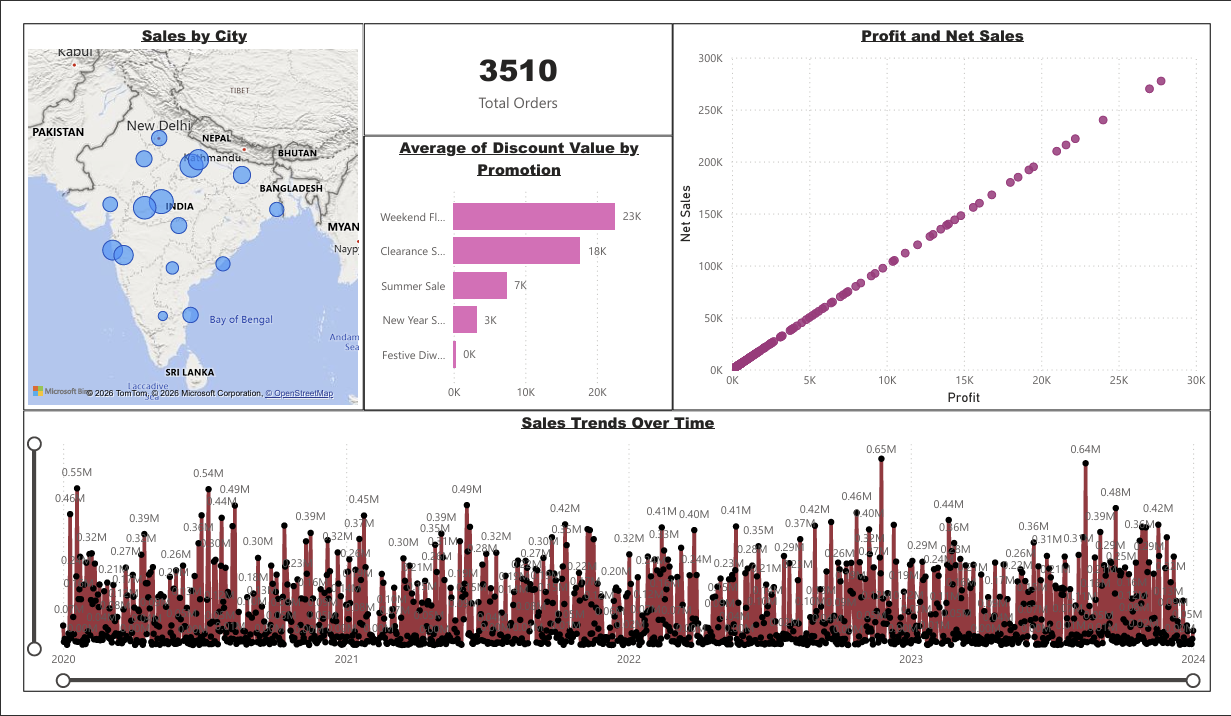

This screenshot's page, from the dashboard's own definition file:
{"tool":"powerbi","page":{"name":"Overview","canvas":[1280,720],"ordinal":0},"visuals":[{"type":"lineChart","title":"Sales Trends Over Time","fields":{"Y":["Sum(Fact.Net Sales)"],"Category":["Fact.Date (dd/mm/yyyy).Variation.Date Hierarchy.Year"]},"box":[0,417.5,1279.8,302.9],"z":0},{"type":"scatterChart","fields":{"X":["Fact.Profit"],"Y":["Fact.Net Sales"]},"box":[700.4,0,579.4,417.5],"z":1000},{"type":"barChart","title":"Average of Discount Value by Promotion ","fields":{"Y":["Avg(Fact.Discount Value)"],"Category":["Dim Promotion.Promotion Name"]},"box":[367,120.9,333.4,296.6],"z":2000},{"type":"map","title":" Sales by City","fields":{"Category":["Dim Customers.City"],"Size":["Sum(Fact.Net Sales)"]},"box":[0,0,367,417.5],"z":3000},{"type":"card","fields":{"Values":["CountNonNull(Fact.Order ID)"]},"box":[367,0,333.4,120.9],"z":4000}]}

Visuals, with their boxes on the page's 1280x720 design canvas (x1, y1, x2, y2). These are canvas units, not pixel positions in the 1231x716 screenshot, which may show the page scaled, cropped or inside an application window:
"Sales Trends Over Time" lineChart: locate(0, 418, 1280, 720)
scatterChart - Fact.Profit x Fact.Net Sales: locate(700, 0, 1280, 418)
"Average of Discount Value by Promotion " barChart: locate(367, 121, 700, 418)
" Sales by City" map: locate(0, 0, 367, 418)
card - CountNonNull(Fact.Order ID): locate(367, 0, 700, 121)
